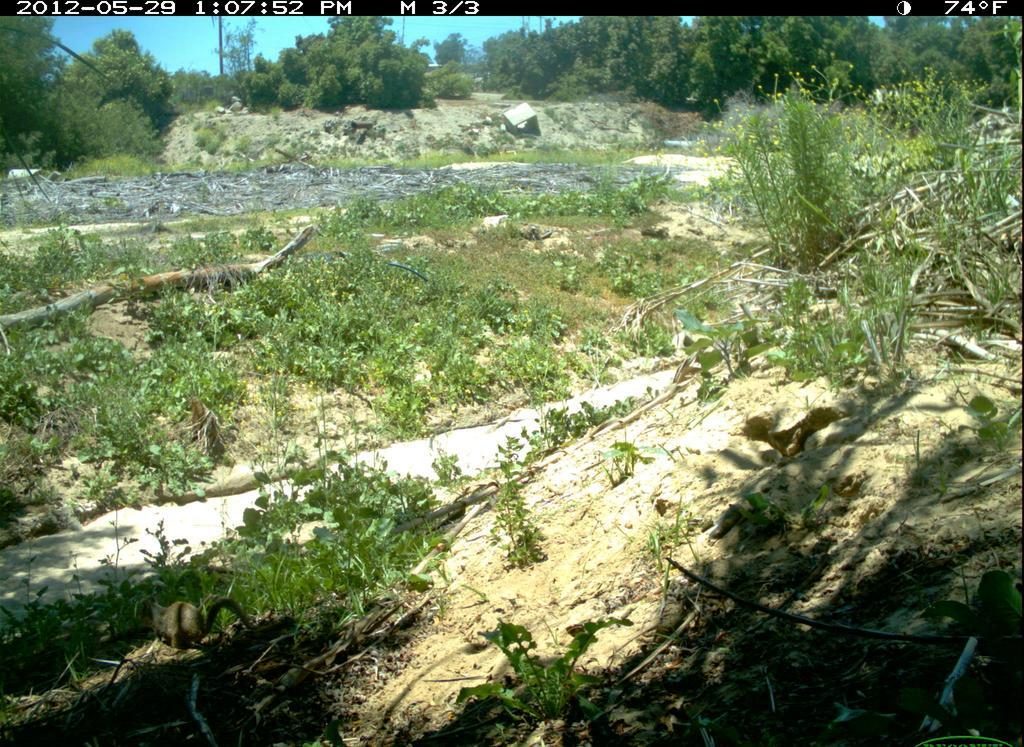squirrel: (132, 592, 258, 653)
